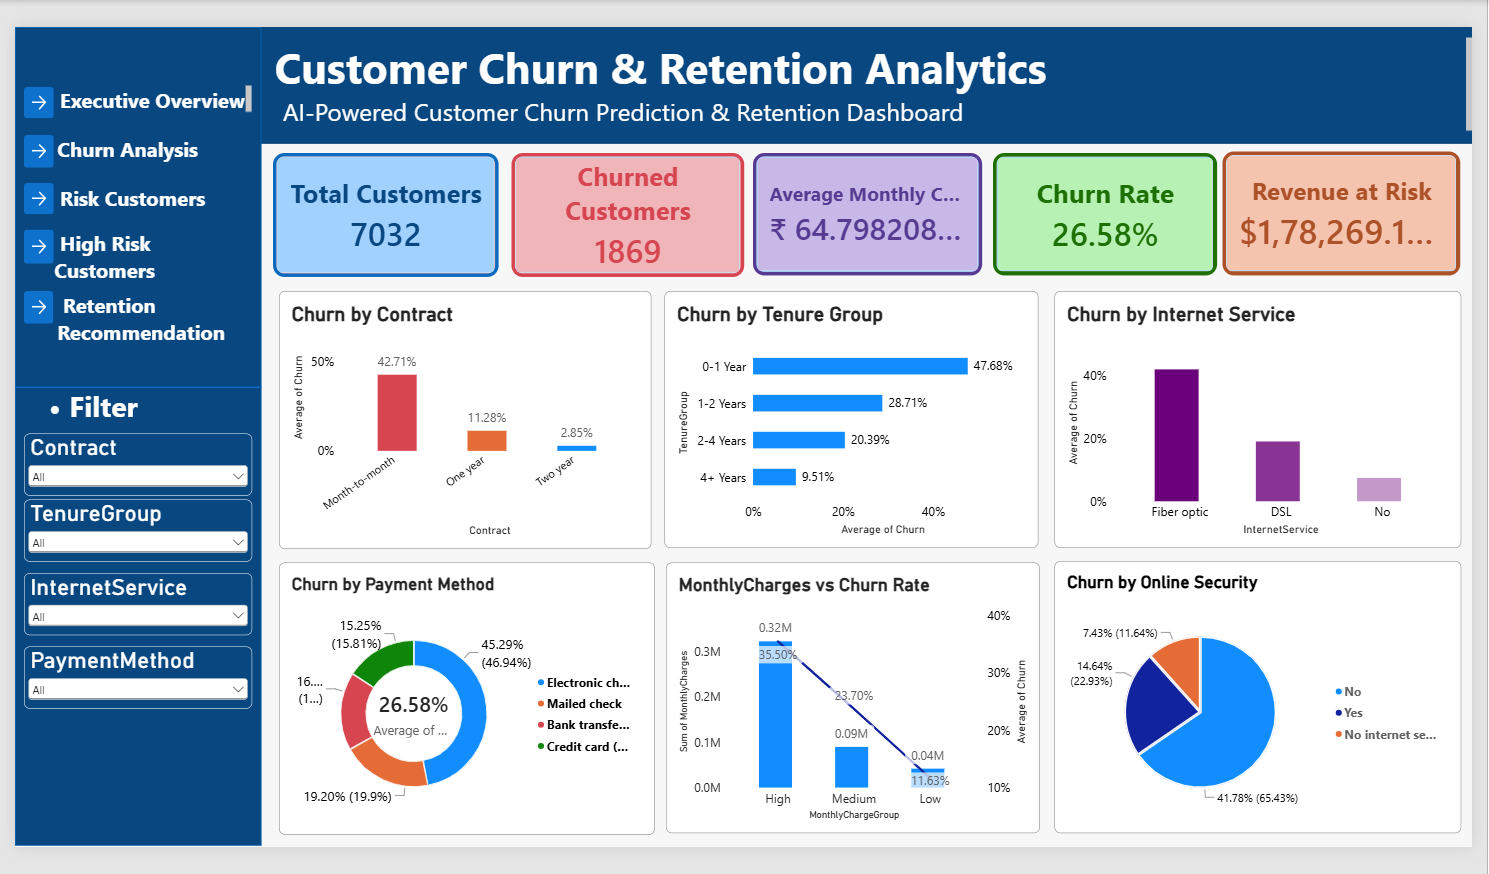

The dashboard page shown, as its layout file describes it:
{"tool":"powerbi","page":{"name":"Excutive Overview","canvas":[1920,1080],"ordinal":0},"visuals":[{"type":"shape","box":[0,0,1920.1,154.1],"z":0},{"type":"textbox","box":[325.5,13.7,1594.1,129.4],"z":1000},{"type":"cardVisual","fields":{"Data":["customer_churn_final.Churned Customers"]},"box":[653.7,165.2,306.6,163.5],"z":2000},{"type":"cardVisual","fields":{"Data":["customer_churn_final.Average Monthly Charges"]},"box":[972.1,165.8,302.1,161.3],"z":3000},{"type":"cardVisual","fields":{"Data":["customer_churn_final.Churn Rate"]},"box":[1287.8,165.8,295.3,161.3],"z":4000},{"type":"cardVisual","fields":{"Data":["customer_churn_final.Revenue at Risk"]},"box":[1592.2,163.5,313.4,163.5],"z":5000},{"type":"cardVisual","fields":{"Data":["customer_churn_final.Total Customers"]},"box":[340.7,165.8,297.5,163.5],"z":6000},{"type":"clusteredColumnChart","title":"Churn by Contract","fields":{"Category":["customer_churn_final.Contract"],"Y":["Avg(customer_churn_final.Churn)"]},"box":[347.5,347.5,490.6,340],"z":7000},{"type":"clusteredBarChart","title":"Churn by Tenure Group","fields":{"Category":["customer_churn_final.TenureGroup"],"Y":["Avg(customer_churn_final.Churn)"]},"box":[856.3,347.5,492.9,338.4],"z":8000},{"type":"clusteredColumnChart","title":"Churn by Internet Service","fields":{"Category":["customer_churn_final.InternetService"],"Y":["Avg(customer_churn_final.Churn)"]},"box":[1369.6,347.5,536,338.4],"z":9000},{"type":"donutChart","title":"Churn by Payment Method ","fields":{"Category":["customer_churn_final.PaymentMethod"],"Y":["Avg(customer_churn_final.Churn)"]},"box":[347.5,706.4,495.1,358.9],"z":10000},{"type":"lineClusteredColumnComboChart","title":"MonthlyCharges  vs Churn Rate","fields":{"Category":["customer_churn_final.MonthlyChargeGroup"],"Y":["Sum(customer_churn_final.MonthlyCharges)"],"Y2":["Avg(customer_churn_final.Churn)"]},"box":[858.6,706.4,492.9,356.6],"z":11000},{"type":"pieChart","title":"Churn by Online Security","fields":{"Category":["customer_churn_final.OnlineSecurity"],"Y":["Avg(customer_churn_final.Churn)"]},"box":[1369.6,704.1,536,358.9],"z":12000},{"type":"shape","box":[0,0,324.8,1078.9],"z":13000},{"type":"textbox","box":[11.8,76.5,300,43.1],"z":14000},{"type":"shape","box":[0,411.1,324.8,127.2],"z":15000},{"type":"textbox","box":[15.9,474.7,263.5,65.9],"z":16000},{"type":"slicer","fields":{"Values":["customer_churn_final.Contract"]},"box":[11.3,535.8,300.5,82.2],"z":17000},{"type":"slicer","fields":{"Values":["customer_churn_final.TenureGroup"]},"box":[11.3,623.6,300.5,82.2],"z":18000},{"type":"slicer","fields":{"Values":["customer_churn_final.InternetService"]},"box":[11.3,720,300.5,82.2],"z":19000},{"type":"slicer","fields":{"Values":["customer_churn_final.PaymentMethod"]},"box":[12.2,817.1,300.5,82.2],"z":20000},{"type":"actionButton","box":[11.8,78.4,39.2,41.2],"z":21000},{"type":"textbox","box":[15.7,143.1,296.1,43.1],"z":22000},{"type":"actionButton","box":[11.8,143.1,39.2,43.1],"z":23000},{"type":"textbox","box":[11.8,207.8,300,39.2],"z":24000},{"type":"actionButton","box":[11.8,205.9,39.2,41.2],"z":25000},{"type":"textbox","box":[11.8,266.7,300,80.4],"z":26000},{"type":"actionButton","box":[11.8,266.7,39.2,45.1],"z":27000},{"type":"textbox","box":[15.9,347.5,295.3,84],"z":28000},{"type":"actionButton","box":[11.4,347.5,38.6,43.2],"z":29000}]}

Visuals, with their boxes on the page's 1920x1080 design canvas (x1, y1, x2, y2). These are canvas units, not pixel positions in the 1489x874 screenshot, which may show the page scaled, cropped or inside an application window:
shape: box=[0, 0, 1920, 154]
textbox: box=[326, 14, 1920, 143]
cardVisual - customer_churn_final.Churned Customers: box=[654, 165, 960, 329]
cardVisual - customer_churn_final.Average Monthly Charges: box=[972, 166, 1274, 327]
cardVisual - customer_churn_final.Churn Rate: box=[1288, 166, 1583, 327]
cardVisual - customer_churn_final.Revenue at Risk: box=[1592, 164, 1906, 327]
cardVisual - customer_churn_final.Total Customers: box=[341, 166, 638, 329]
"Churn by Contract" clusteredColumnChart: box=[348, 348, 838, 688]
"Churn by Tenure Group" clusteredBarChart: box=[856, 348, 1349, 686]
"Churn by Internet Service" clusteredColumnChart: box=[1370, 348, 1906, 686]
"Churn by Payment Method " donutChart: box=[348, 706, 843, 1065]
"MonthlyCharges  vs Churn Rate" lineClusteredColumnComboChart: box=[859, 706, 1352, 1063]
"Churn by Online Security" pieChart: box=[1370, 704, 1906, 1063]
shape: box=[0, 0, 325, 1079]
textbox: box=[12, 76, 312, 120]
shape: box=[0, 411, 325, 538]
textbox: box=[16, 475, 279, 541]
slicer - customer_churn_final.Contract: box=[11, 536, 312, 618]
slicer - customer_churn_final.TenureGroup: box=[11, 624, 312, 706]
slicer - customer_churn_final.InternetService: box=[11, 720, 312, 802]
slicer - customer_churn_final.PaymentMethod: box=[12, 817, 313, 899]
actionButton: box=[12, 78, 51, 120]
textbox: box=[16, 143, 312, 186]
actionButton: box=[12, 143, 51, 186]
textbox: box=[12, 208, 312, 247]
actionButton: box=[12, 206, 51, 247]
textbox: box=[12, 267, 312, 347]
actionButton: box=[12, 267, 51, 312]
textbox: box=[16, 348, 311, 432]
actionButton: box=[11, 348, 50, 391]
